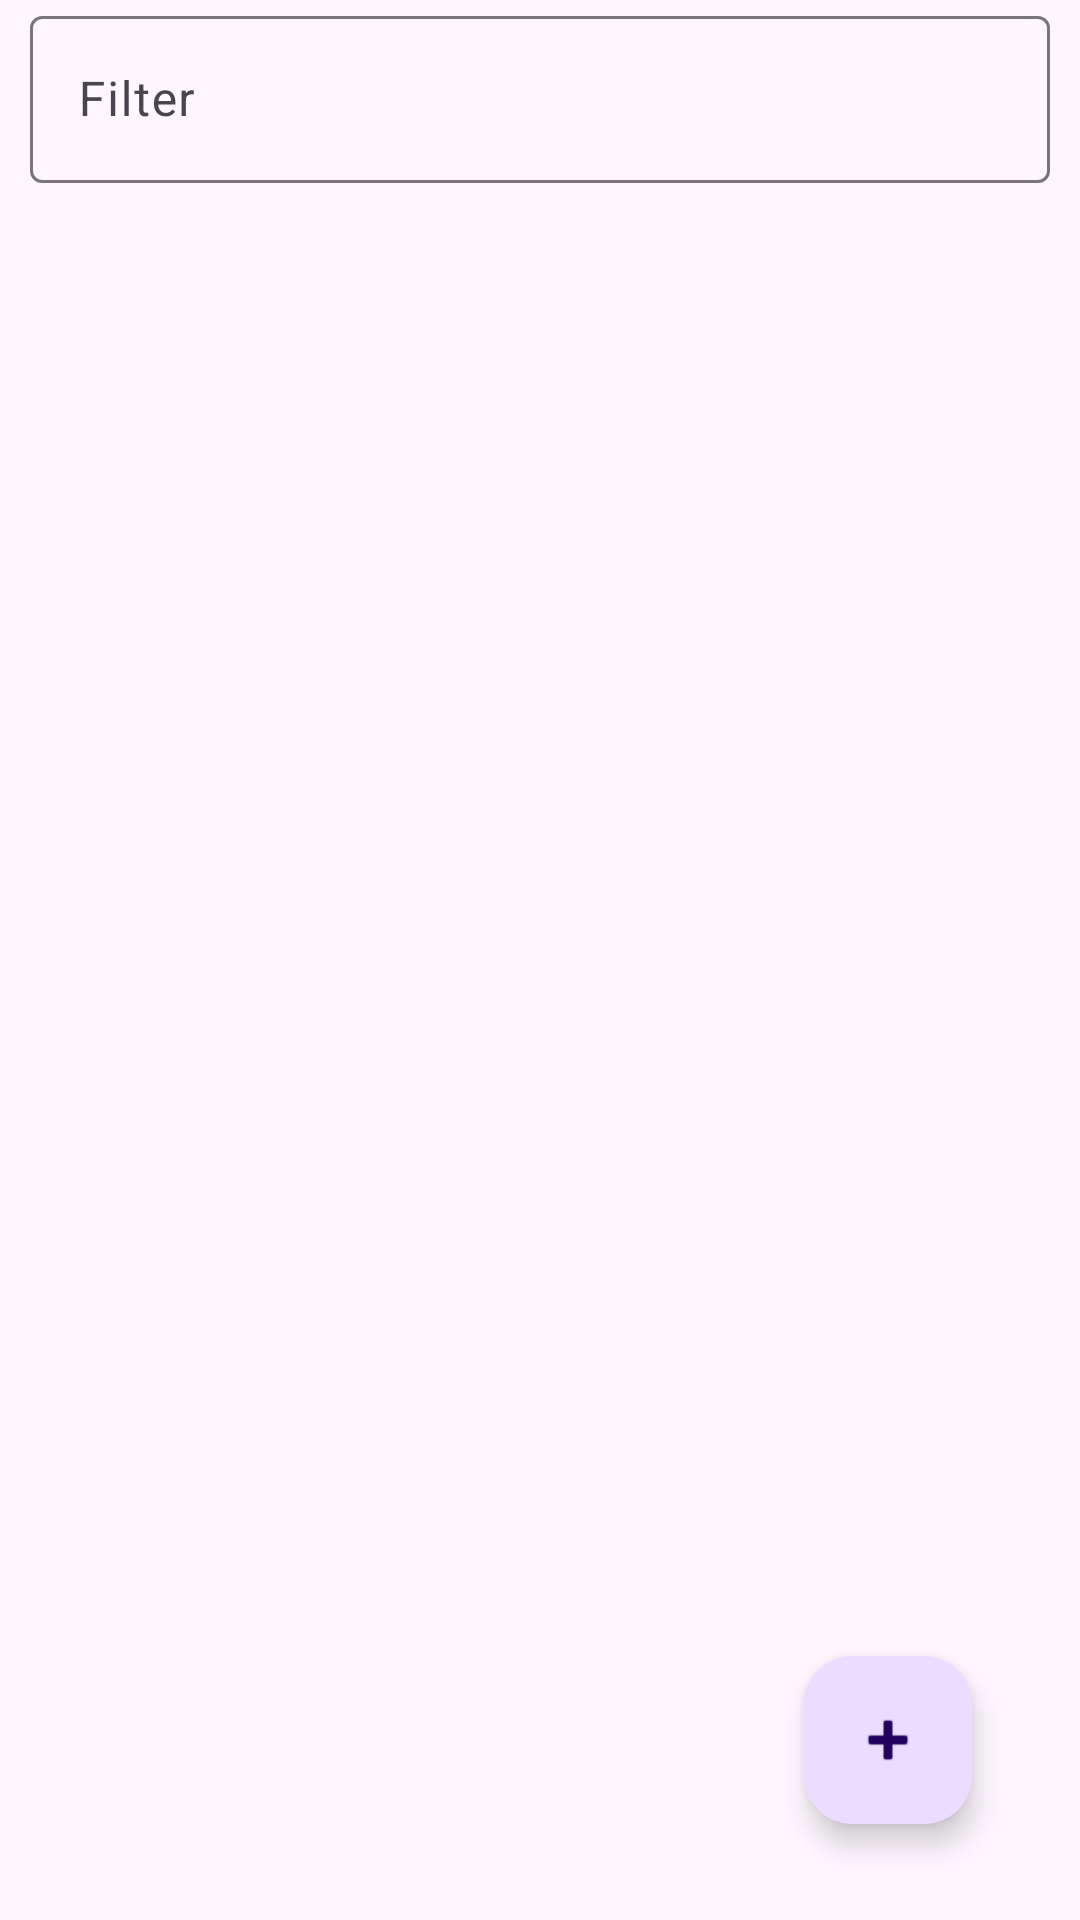

Icons on this 1080 × 1920 Android screen, each with the point to tap as (x=x, y=y):
add: (x=888, y=1740)
